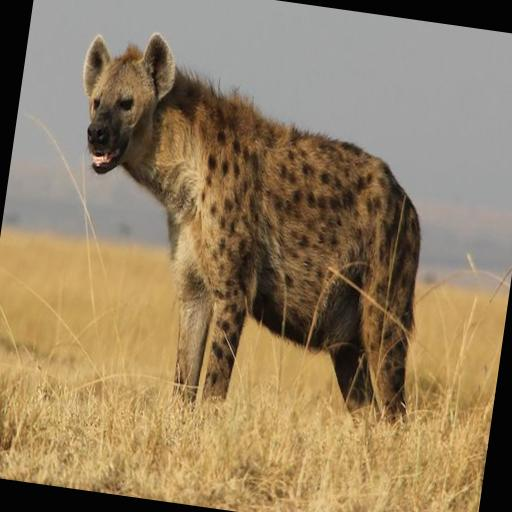hyenas: (26, 29, 456, 438)
